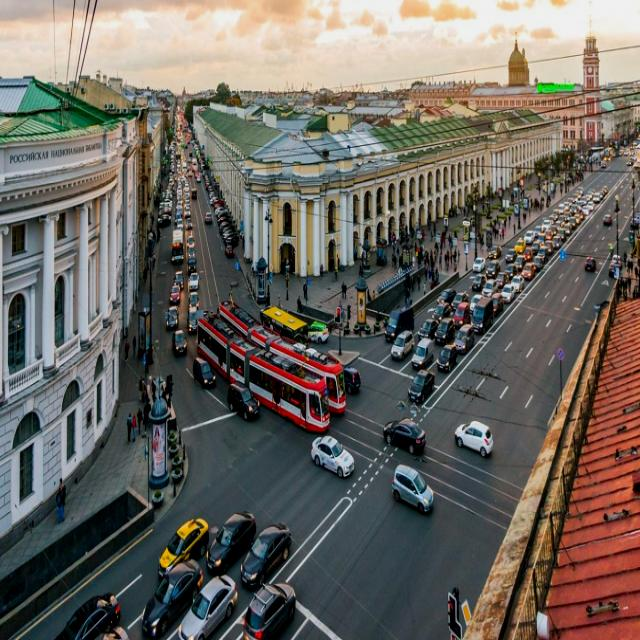bus: (261, 305, 314, 342)
